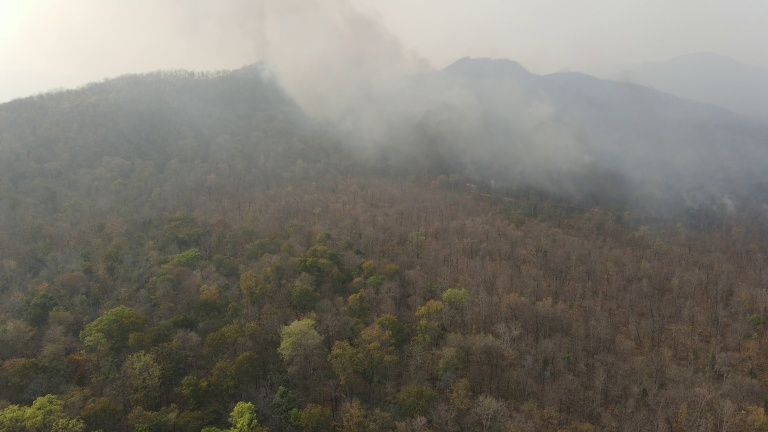fire: (461, 175, 511, 203)
smoke: (185, 1, 601, 190), (603, 90, 768, 206), (252, 14, 274, 81)
